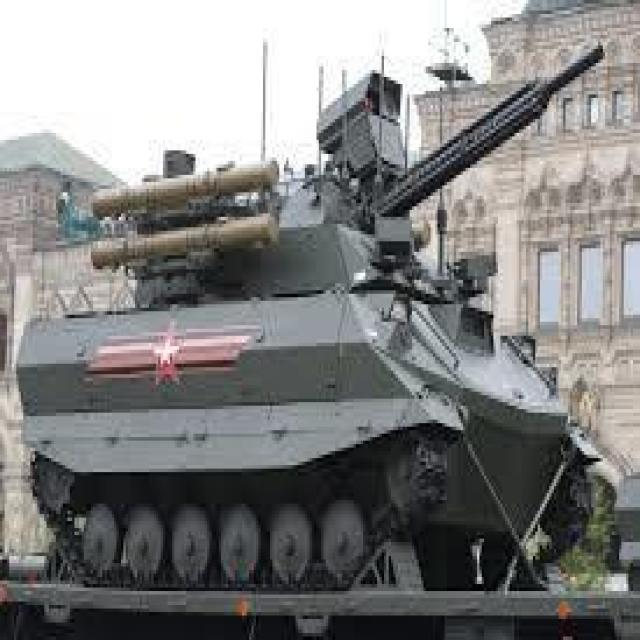Tanks: (10, 39, 569, 598)
